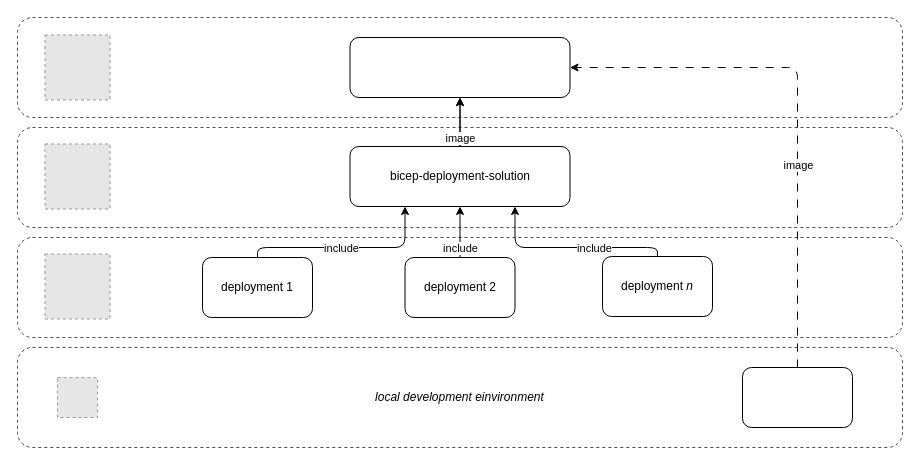
Image size: 920x465. Some labels were removed from this diagram. Grey dashed boxes stand in for pictures. Each missing label, with the box of its shape:
bicep-base-image: (349, 36, 570, 98)
devcontainer: (742, 366, 852, 428)
